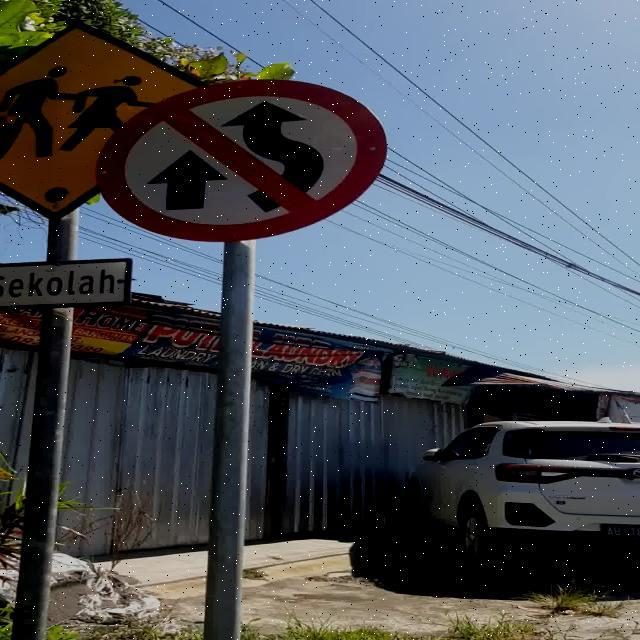Dilarang Mendahului: (96, 80, 388, 242)
